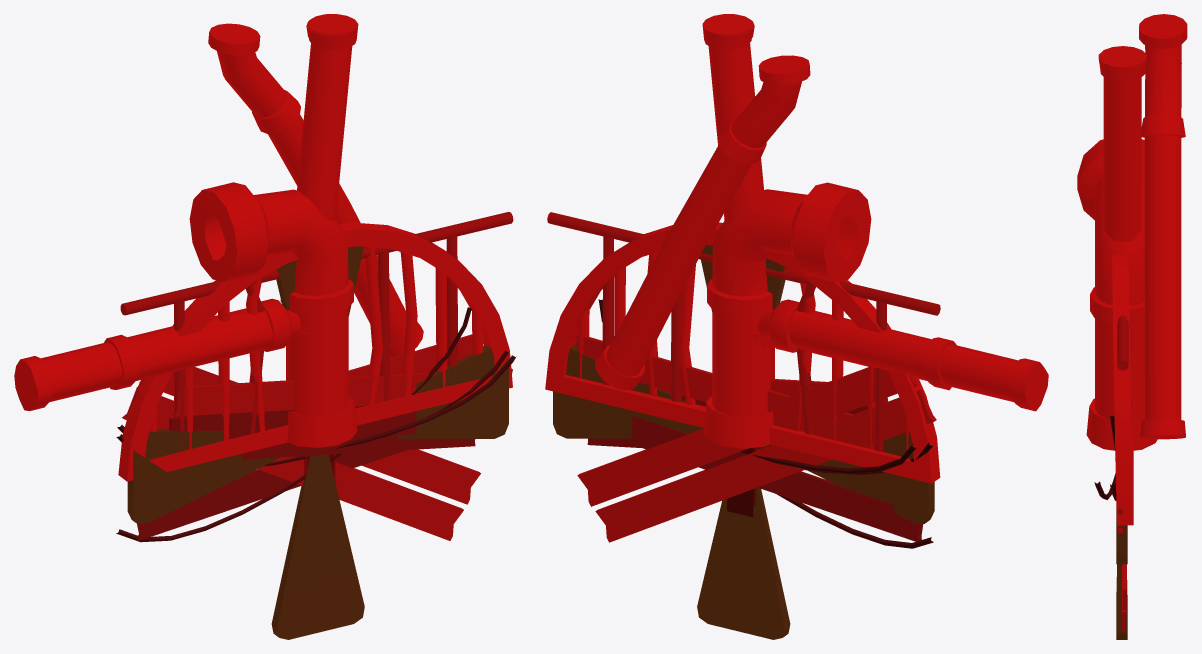
File: fixed_obstacles.glb
3 views of the same model, side by side, from view 1: azimuth 30°, elevation 25°; view 2: azimuth 150°, elevation 25°; view 3: azimuth 270°, elevation 25° (orthographic). The views are drawn at different scales.
Visible parts, largest first — view 1: propeller, pipe2, grid, wood3, pipe3, wood4, pipe4, grid2, pipe5, cable2, pipe; view 2: pipe2, wood3, grid, pipe3, propeller, wood4, grid2, pipe4, pipe5, pipe, cable2; view 3: pipe3, pipe2, pipe, grid, propeller, grid2, wood3, cable2.
Boxes of the visible parts, x1,y1,x2,y2 form: propeller: (127,246,508,639); pipe2: (189,182,357,447); grid: (118,222,512,481); wood3: (122,367,512,540); pipe3: (208,21,423,358); wood4: (136,334,475,540); pipe4: (14,305,300,411); grid2: (120,212,513,450); pipe5: (104,298,300,389); cable2: (116,307,516,542); pipe: (305,14,358,337); pipe2: (703,182,871,448); wood3: (577,367,936,542); grid: (545,222,940,483); pipe3: (595,21,810,390); propeller: (553,245,934,639); wood4: (576,333,923,541); grid2: (547,212,940,451); pipe4: (757,305,1048,411); pipe5: (757,299,956,390); pipe: (702,14,759,340); cable2: (576,299,933,548); pipe3: (1098,14,1187,439); pipe2: (1077,139,1157,450); pipe: (1099,46,1146,241); grid: (1112,254,1133,525); propeller: (1116,507,1127,639); grid2: (1117,315,1128,370); wood3: (1118,507,1126,632); cable2: (1094,415,1115,499).
Size of the model in its own units: 15.11 by 17.88 by 3.1.
